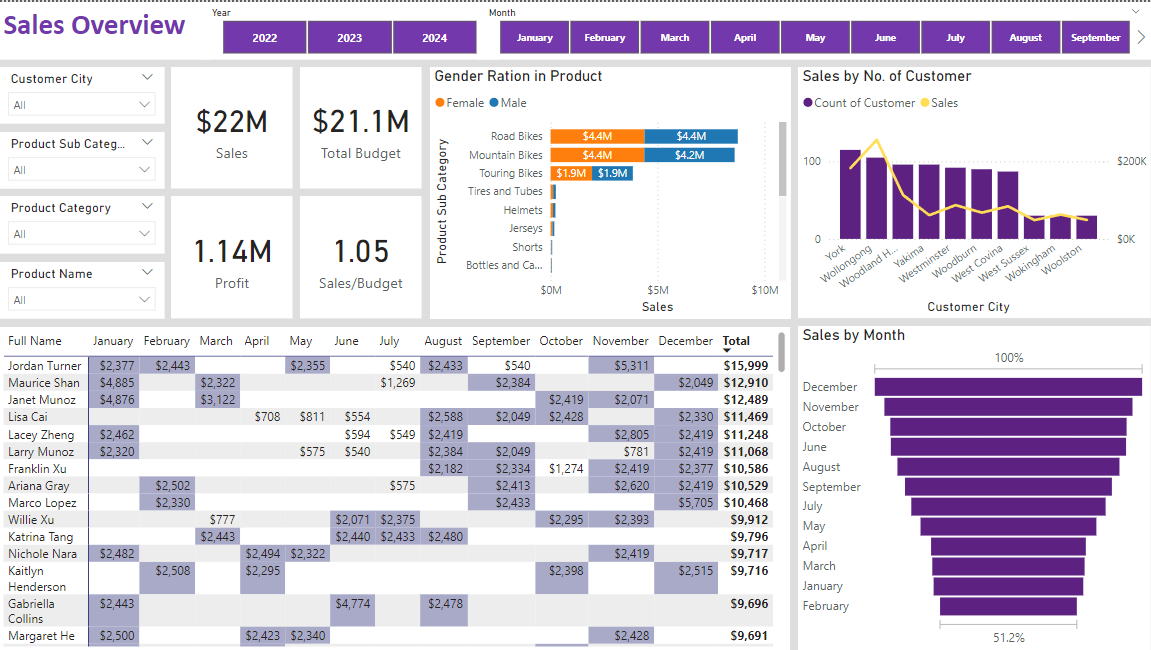

What the dashboard file says about the page in this screenshot:
{"tool":"powerbi","page":{"name":"Sales Overview II","canvas":[1280,720],"ordinal":1},"visuals":[{"type":"textbox","box":[0,0,235.7,64],"z":0},{"type":"slicer","fields":{"Values":["Dim_Customer.Customer City"]},"box":[0,72.5,183.6,62.7],"z":1000},{"type":"slicer","fields":{"Values":["Dim_Product.Product Sub Category"]},"box":[0,144.2,183.6,62.7],"z":2000},{"type":"slicer","fields":{"Values":["Dim_Product.Product Category"]},"box":[0,215.8,183.6,63.6],"z":3000},{"type":"slicer","fields":{"Values":["Dim_Product.Product Name"]},"box":[0,288.4,183.6,62.7],"z":4000},{"type":"slicer","fields":{"Values":["Dim_Calendar.Year"]},"box":[222.8,0,330.7,64],"z":5000},{"type":"slicer","fields":{"Values":["Dim_Calendar.Date.Variation.Date Hierarchy.Month"]},"box":[530.6,0,749.4,64],"z":6000},{"type":"card","fields":{"Values":["Key Measures.Total Budget"]},"box":[334,72.5,135.2,135.2],"z":7000},{"type":"card","fields":{"Values":["Key Measures.Sales"]},"box":[191.6,72.5,135.2,135.2],"z":8000},{"type":"card","fields":{"Values":["Key Measures.Sales / Total Budget"]},"box":[334,215.8,135.2,136.1],"z":9000},{"type":"card","fields":{"Values":["Key Measures.Sales - budget"]},"box":[191.6,215.8,135.2,136.1],"z":10000},{"type":"pivotTable","title":"Sales by Customer City","fields":{"Values":["Key Measures.Sales"],"Rows":["Dim_Customer.Full Name"],"Columns":["Dim_Calendar.Date.Variation.Date Hierarchy.Month"]},"box":[0,360.6,878.7,359.6],"z":11000},{"type":"barChart","title":"Gender Ration in Product","fields":{"Y":["Key Measures.Sales"],"Series":["Dim_Customer.Gender"],"Category":["Dim_Product.Product Sub Category"]},"box":[478.7,71.7,400.7,279.7],"z":12000},{"type":"lineStackedColumnComboChart","title":"Sales by No. of Customer","fields":{"Category":["Dim_Customer.Customer City"],"Y":["Dim_Customer.CustomerKey"],"Y2":["Key Measures.Sales"]},"box":[887.6,71.7,392.4,279.3],"z":13000},{"type":"funnel","fields":{"Y":["Key Measures.Sales"],"Category":["Dim_Calendar.Month"]},"box":[887.6,360.2,392.4,360.2],"z":14000}]}

Visuals, with their boxes in screenshot pixels (x1, y1, x2, y2), scaled from the page's 1280x720 canvas onto the 1151x650 screenshot:
textbox: (0,0,212,58)
slicer - Dim_Customer.Customer City: (0,65,165,122)
slicer - Dim_Product.Product Sub Category: (0,130,165,187)
slicer - Dim_Product.Product Category: (0,195,165,252)
slicer - Dim_Product.Product Name: (0,260,165,317)
slicer - Dim_Calendar.Year: (200,0,498,58)
slicer - Dim_Calendar.Date.Variation.Date Hierarchy.Month: (477,0,1150,58)
card - Key Measures.Total Budget: (300,65,422,188)
card - Key Measures.Sales: (172,65,294,188)
card - Key Measures.Sales / Total Budget: (300,195,422,318)
card - Key Measures.Sales - budget: (172,195,294,318)
"Sales by Customer City" pivotTable: (0,326,790,649)
"Gender Ration in Product" barChart: (430,65,791,317)
"Sales by No. of Customer" lineStackedColumnComboChart: (798,65,1150,317)
funnel - Key Measures.Sales x Dim_Calendar.Month: (798,325,1150,649)
